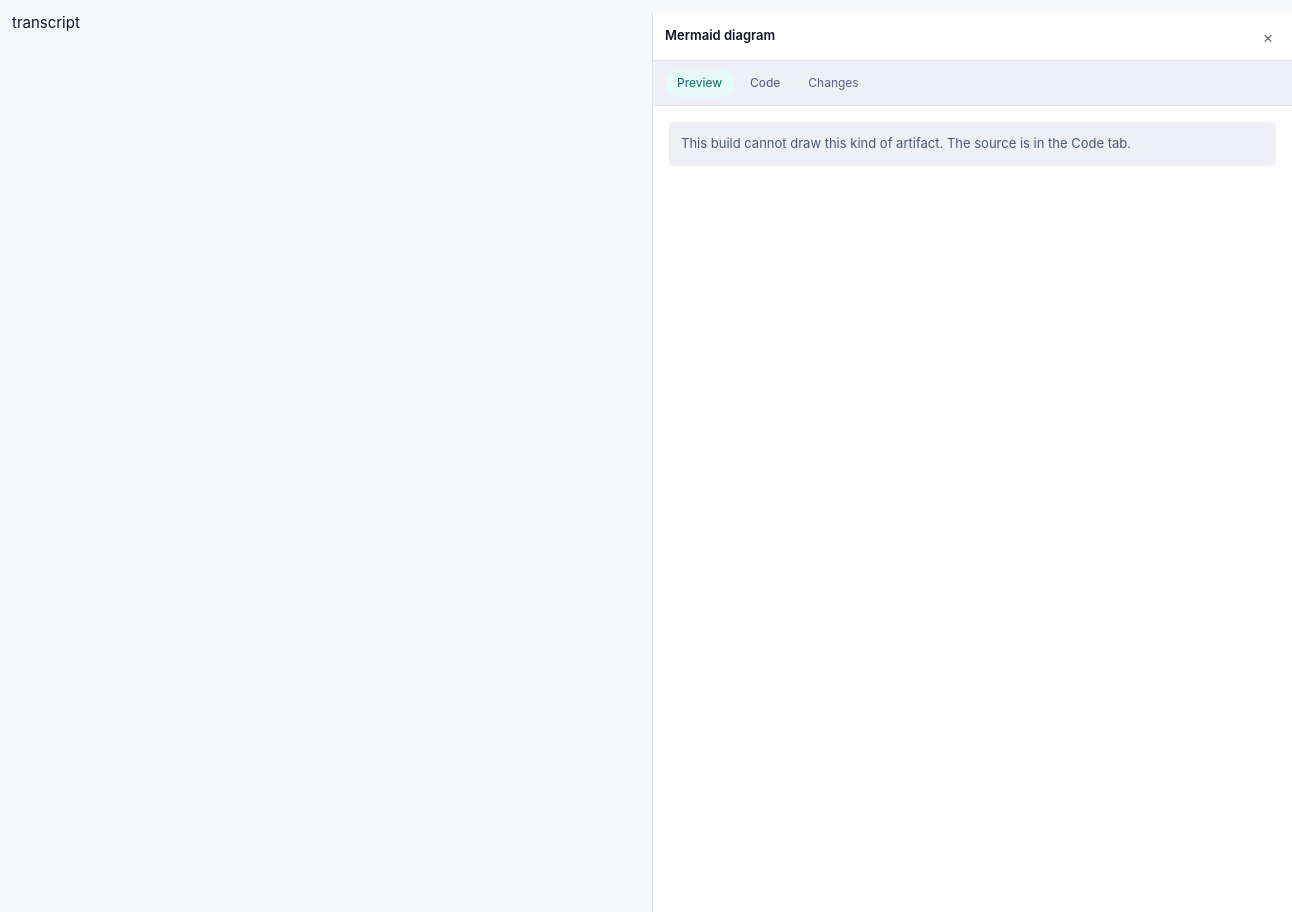
Test: the source is always reachable, including where nothing can run › shows the source of a language this build cannot draw, and says so
expect the text with test id "canvas-notice" shows "cannot draw this kind": met, box [681,135,1131,151]
Step 1. Click the tab "Code" → (765, 83), box [738,69,792,97]
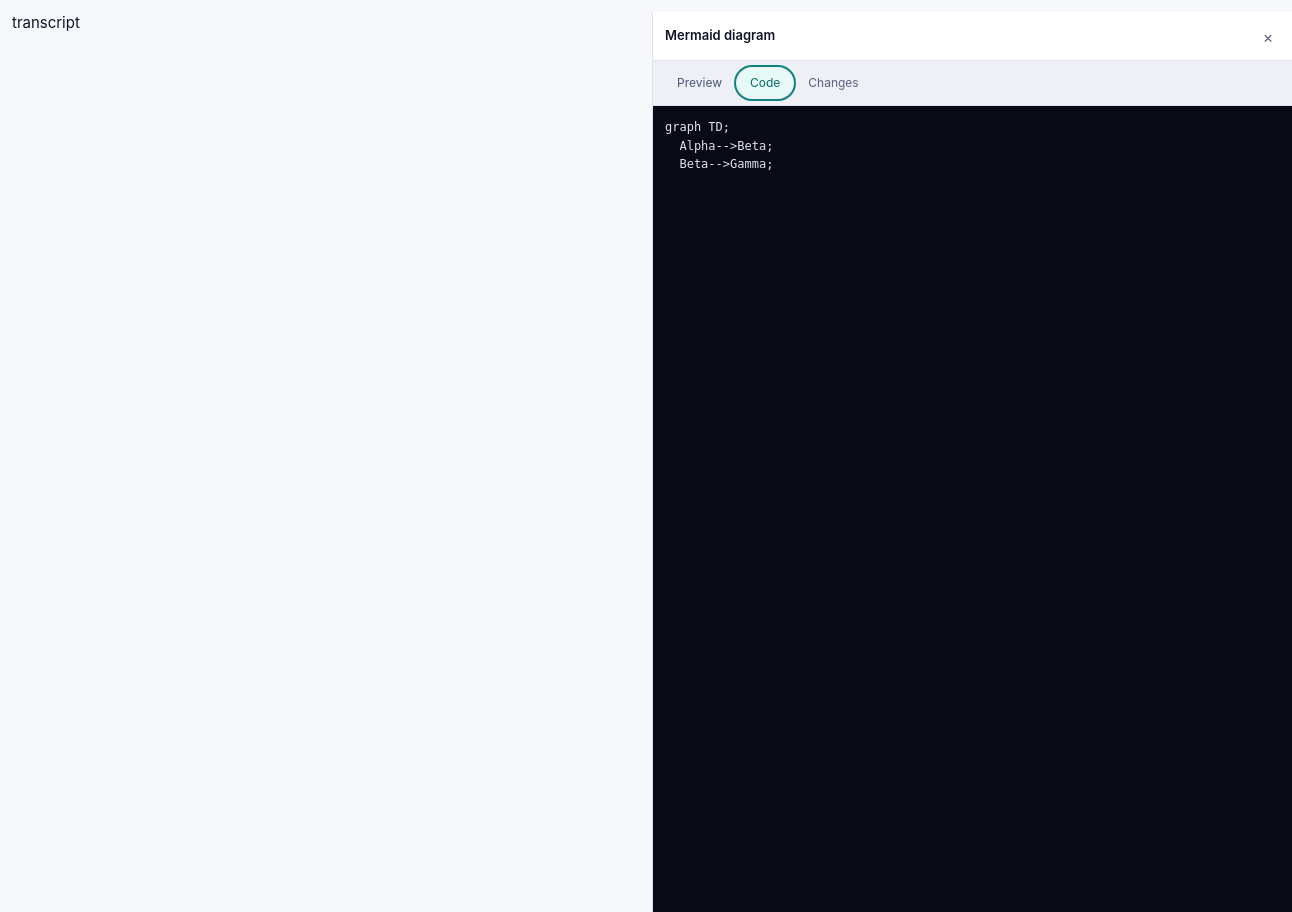
expect the element with test id "canvas-code" shows "Alpha-->Beta": met, box [665,120,773,171]
